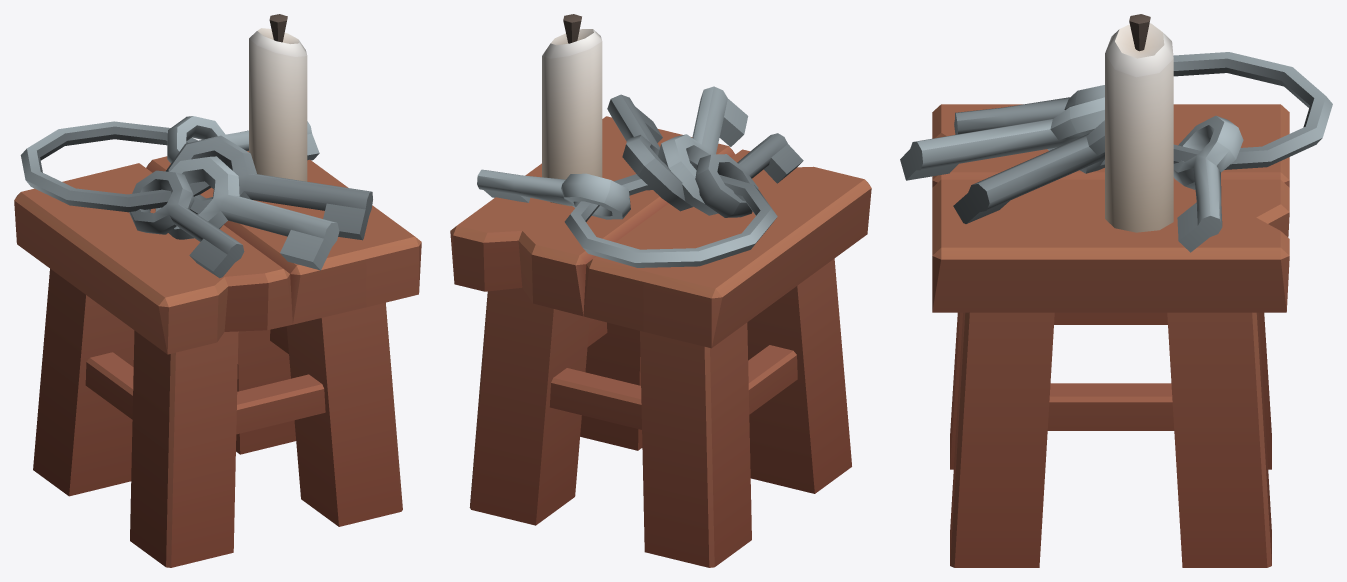
The model's file is table_small_decorated_A.glb.
The picture shows the model from 3 angles, left to right: view 1: azimuth 30°, elevation 25°; view 2: azimuth 150°, elevation 25°; view 3: azimuth 270°, elevation 25°; orthographic projection. The views are drawn at different scales.
Visible parts, largest first — view 1: table_small_decorated_A; view 2: table_small_decorated_A; view 3: table_small_decorated_A.
Boxes of the visible parts, bbox=[...] form: table_small_decorated_A: bbox=[14, 14, 421, 567]; table_small_decorated_A: bbox=[450, 14, 871, 567]; table_small_decorated_A: bbox=[900, 14, 1332, 567].
Size of the model in its own units: 1.04 by 1.62 by 1.21.
1 material, 1 textured.
